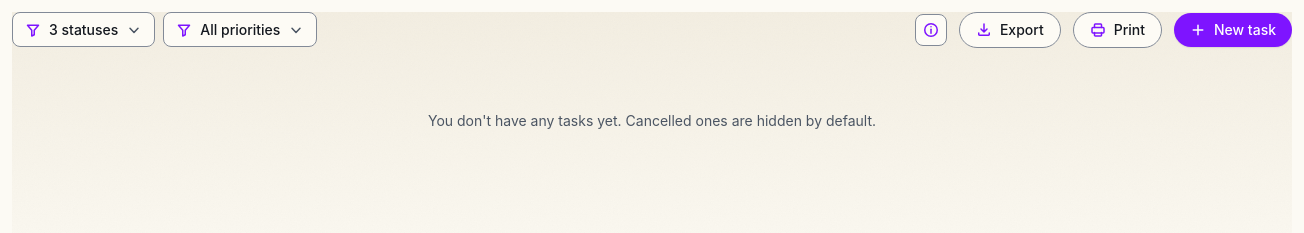
TaskList › empty: shows a filter-specific message once a filter is active
Click the button with aria-label "Filter by status" at (84, 30), box [12, 12, 155, 47]
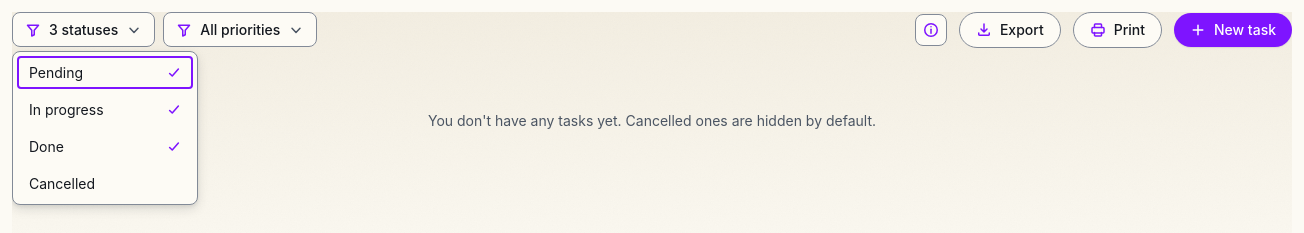
Expected: the text "You don't have any tasks yet" is shown, [428, 112, 876, 128]
Click the menu item "Cancelled" at (105, 184), box [17, 167, 193, 200]
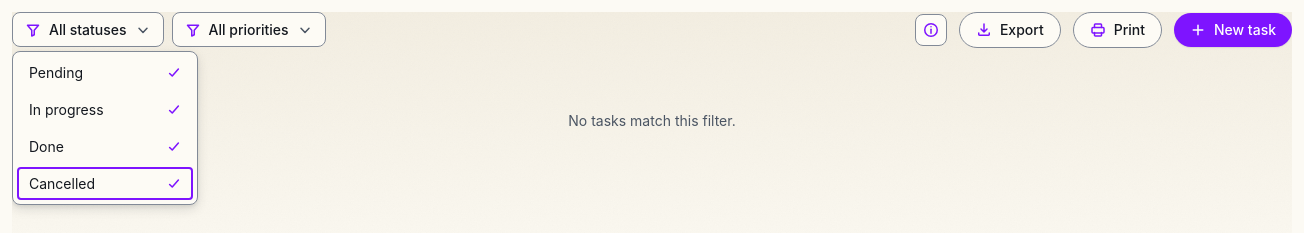
Now the text "No tasks match this filter." is shown, box [568, 112, 736, 128]
Now the text "You don't have any tasks yet" is gone
